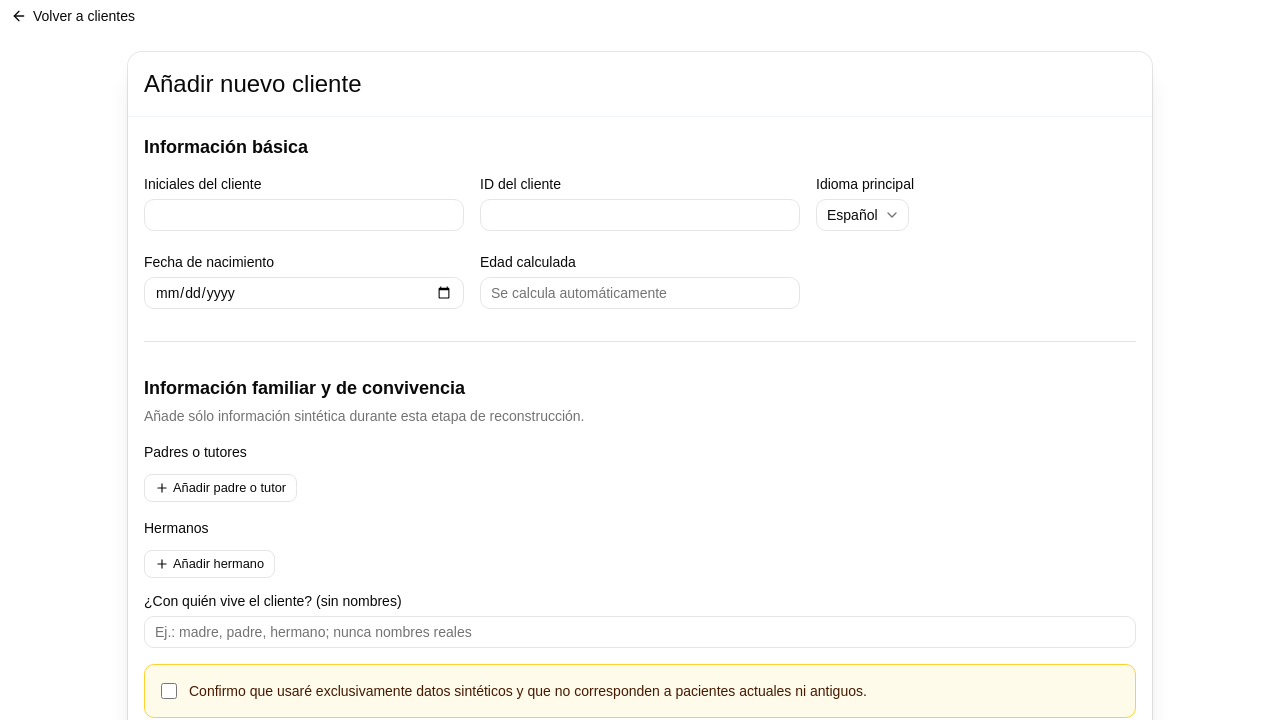
Test: NewClientPage › asocia un conflicto al ID sin perder los valores
The image size is (1280, 720).
Type "EF" into the field labelled "Iniciales del cliente" at [304, 215], box [144,199,464,231]
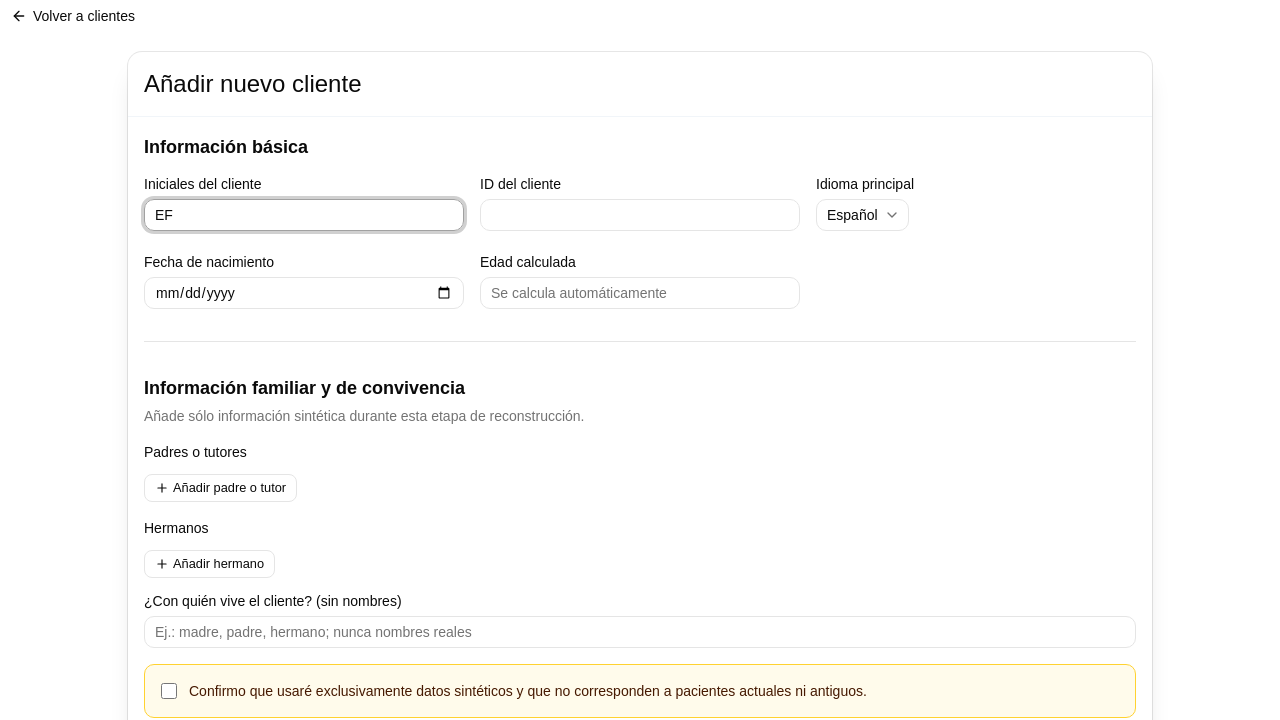
Type "SYN-003" into the field labelled "ID del cliente" at [640, 215], box [480,199,800,231]
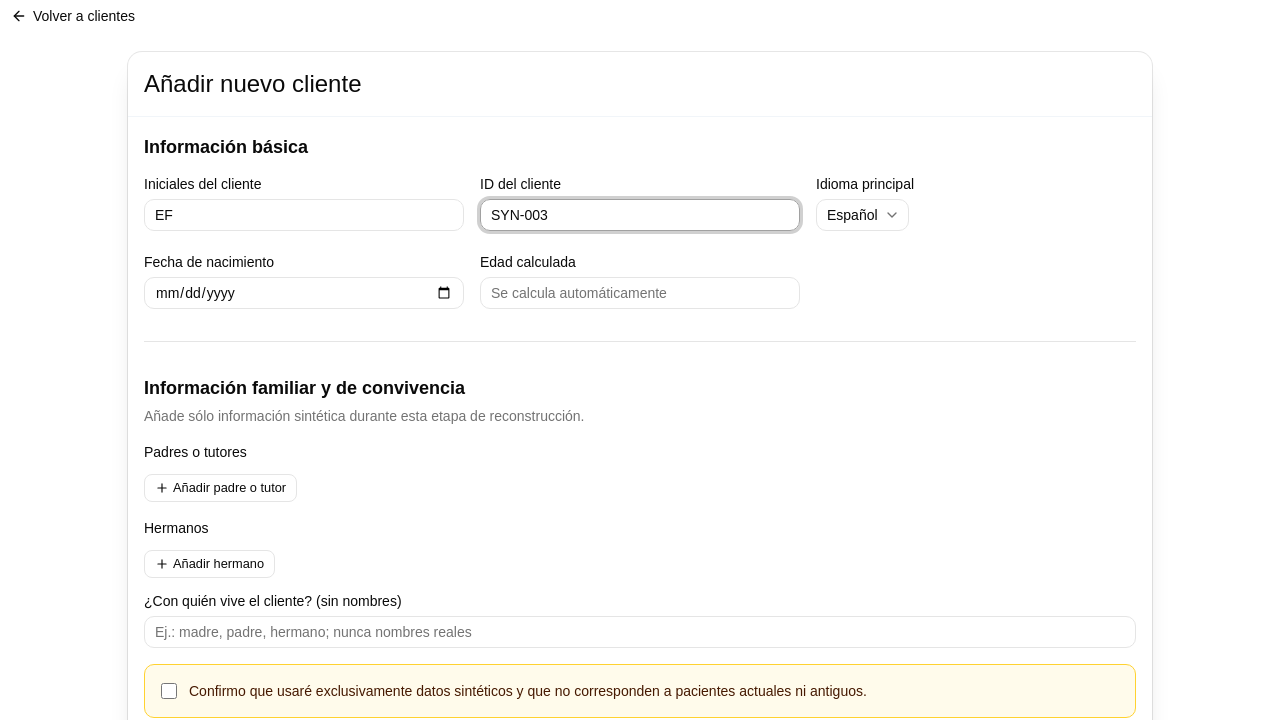
Type "2018-01-02" into the date field labelled "Fecha de nacimiento" at [304, 293], box [144,277,464,309]
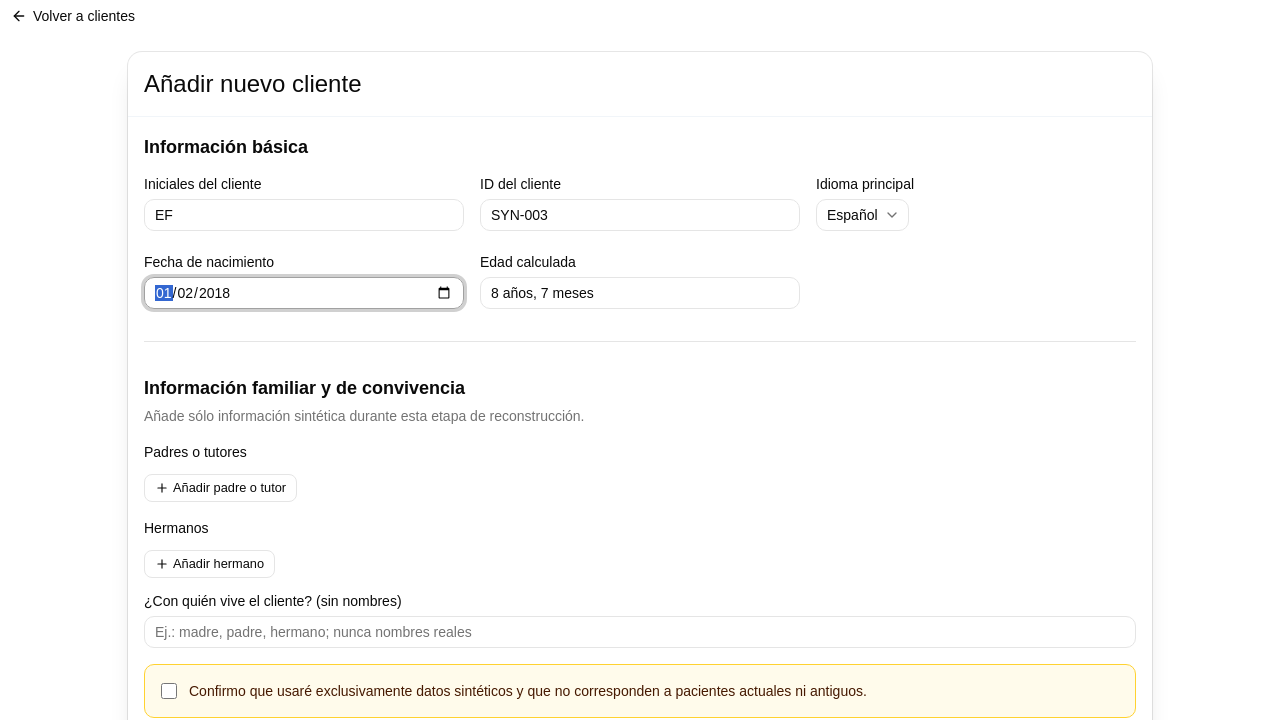
Click the checkbox labelled "Confirmo que usaré exclusivamente datos sintéticos" at [169, 691], box [161,683,177,699]
(page scrolled)
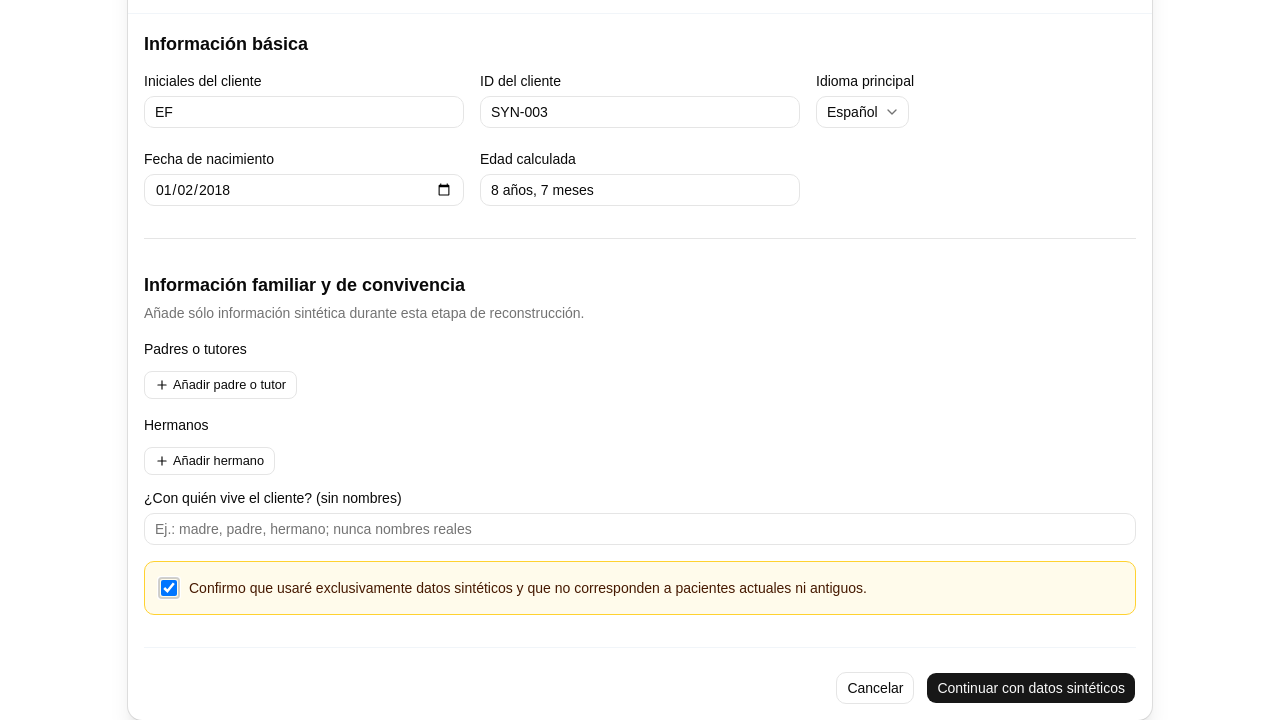
Click the button "Continuar con datos sintéticos" at [1031, 688], box [926,672,1136,704]
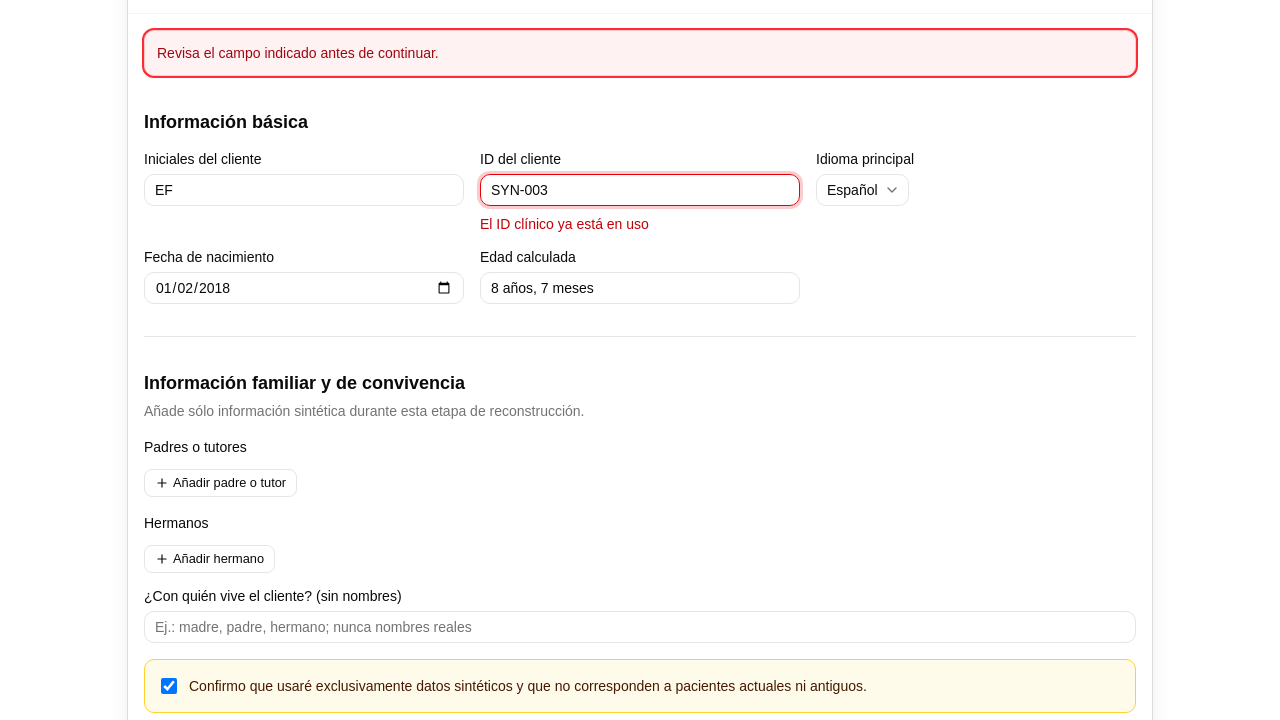
Expected: the text "El ID clínico ya está en uso" is shown, [480,216,649,232]
